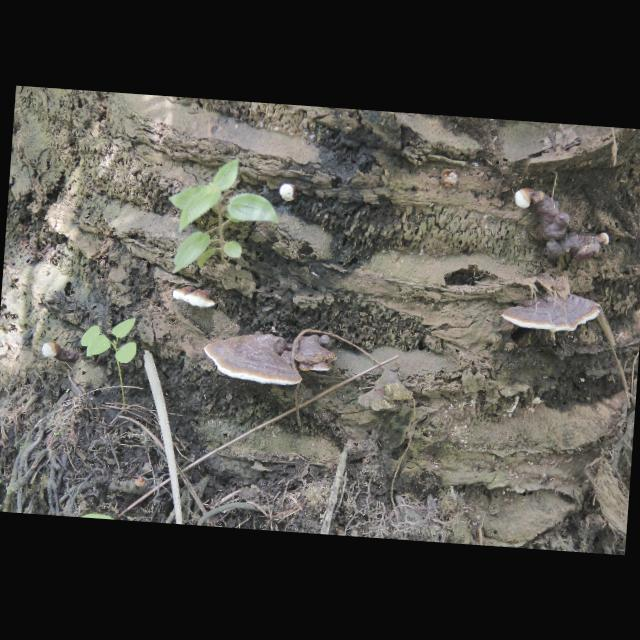ganoderma: (203, 330, 306, 388), (530, 191, 605, 265), (501, 289, 602, 337), (288, 333, 339, 374), (172, 285, 217, 309)
primordium: (515, 188, 534, 210), (280, 185, 299, 203), (43, 343, 60, 360), (598, 233, 611, 247)
